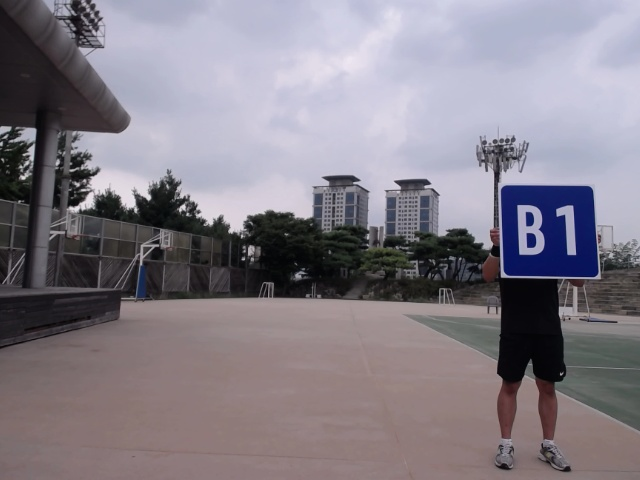delivery_b1: (498, 184, 601, 279)
